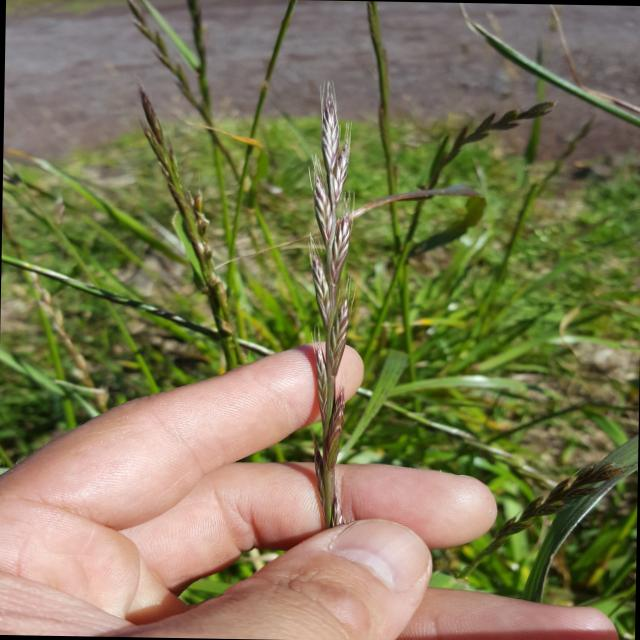Lolium: (132, 85, 256, 366), (297, 77, 363, 529), (425, 96, 555, 196), (124, 0, 205, 102)
